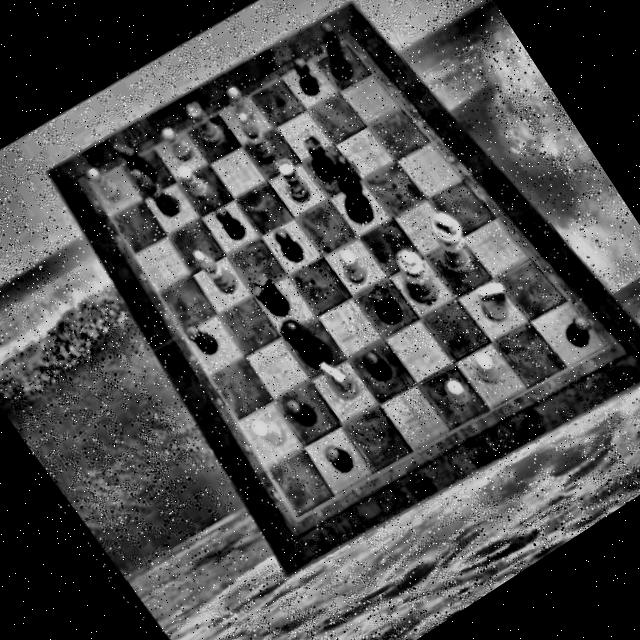black-bishop: (300, 14, 360, 84), (126, 156, 182, 224)
black-king: (311, 147, 384, 230)
black-knight: (110, 130, 160, 190), (242, 268, 290, 323)
black-pawn: (281, 49, 323, 96), (550, 307, 592, 350), (178, 316, 219, 360), (265, 221, 303, 264), (278, 392, 316, 434), (207, 199, 244, 242), (315, 440, 353, 480), (354, 344, 389, 385)
black-queen: (270, 306, 333, 378)
black-rook: (292, 126, 341, 184), (356, 277, 402, 328)
white-bishop: (225, 102, 277, 166), (186, 238, 238, 300)
white-king: (408, 202, 482, 284)
white-knight: (463, 272, 515, 326), (311, 350, 358, 404)
white-pawn: (84, 158, 124, 205), (218, 78, 258, 125), (174, 158, 213, 204), (246, 412, 286, 454), (157, 119, 195, 162), (330, 245, 366, 286), (461, 348, 496, 388), (434, 376, 466, 411)
white-queen: (378, 239, 444, 313)
white-rook: (177, 92, 225, 150), (266, 151, 312, 206)
